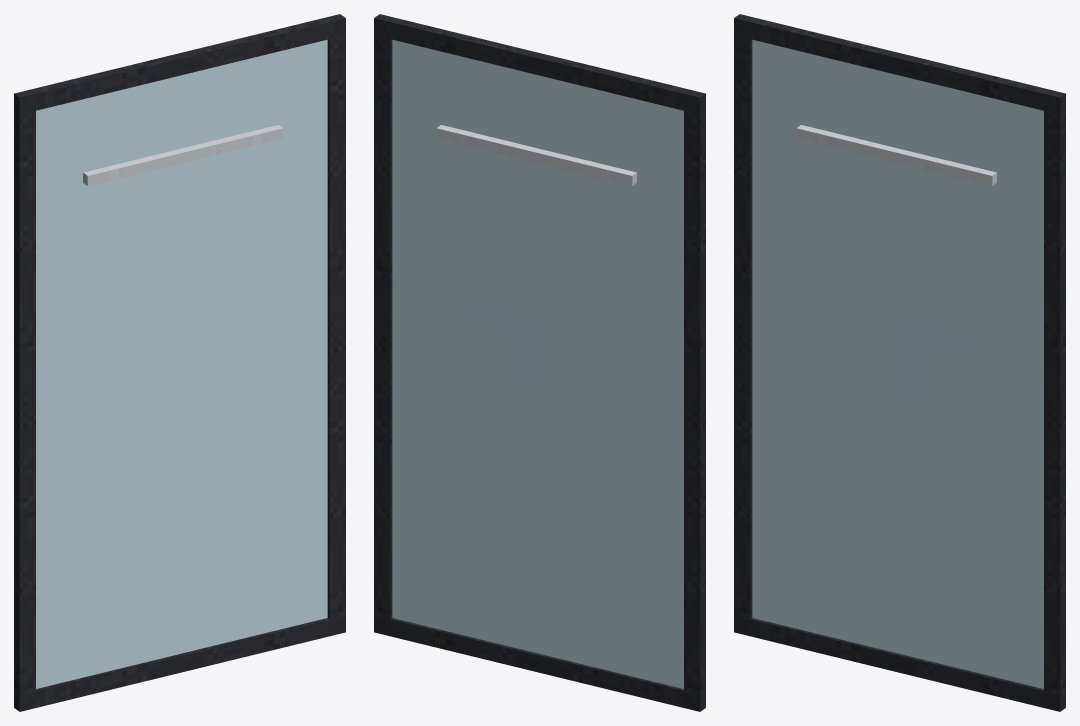
The picture shows the model from 3 angles, left to right: view 1: azimuth 30°, elevation 25°; view 2: azimuth 150°, elevation 25°; view 3: azimuth 330°, elevation 25°; orthographic projection.
Visible parts, largest first — view 1: Decor_shelf_kit/door; view 2: Decor_shelf_kit/door; view 3: Decor_shelf_kit/door.
Part boxes in pixels (x1=…): Decor_shelf_kit/door: x1=14, y1=14, x2=345, y2=711; Decor_shelf_kit/door: x1=374, y1=14, x2=705, y2=711; Decor_shelf_kit/door: x1=734, y1=14, x2=1065, y2=711.
Bounding box in the file's own units: 1 × 1.8 × 0.06.
3 materials, 3 textured.
